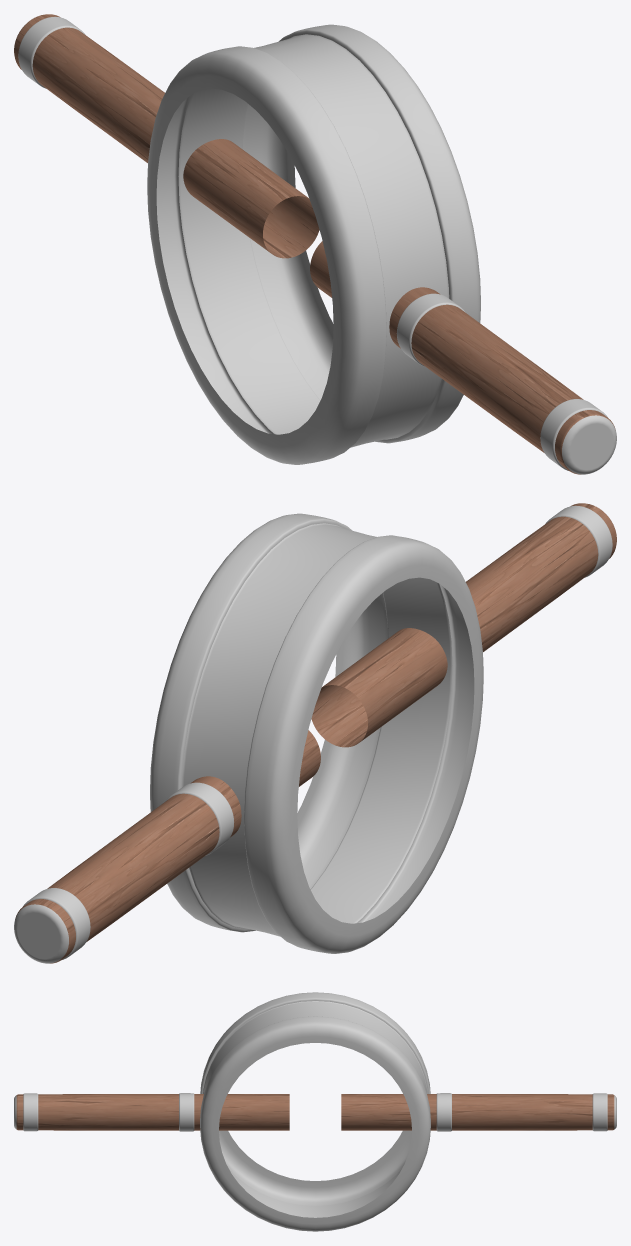
File: SM_WoodStick_02.fbx
The picture shows the model from 3 angles, top to bottom: view 1: azimuth 30°, elevation 25°; view 2: azimuth 150°, elevation 25°; view 3: azimuth 270°, elevation 25°; orthographic projection. The views are drawn at different scales.
Parts seen in each view (by area): view 1: SM_WoodStick_02; view 2: SM_WoodStick_02; view 3: SM_WoodStick_02.
Boxes of the visible parts, x1,y1,x2,y2 form: SM_WoodStick_02: (14, 14, 616, 474); SM_WoodStick_02: (14, 503, 616, 963); SM_WoodStick_02: (14, 992, 616, 1231).
Size of the model in its own units: 250 by 1735 by 665.
Materials: 4 (1 with a texture image).
